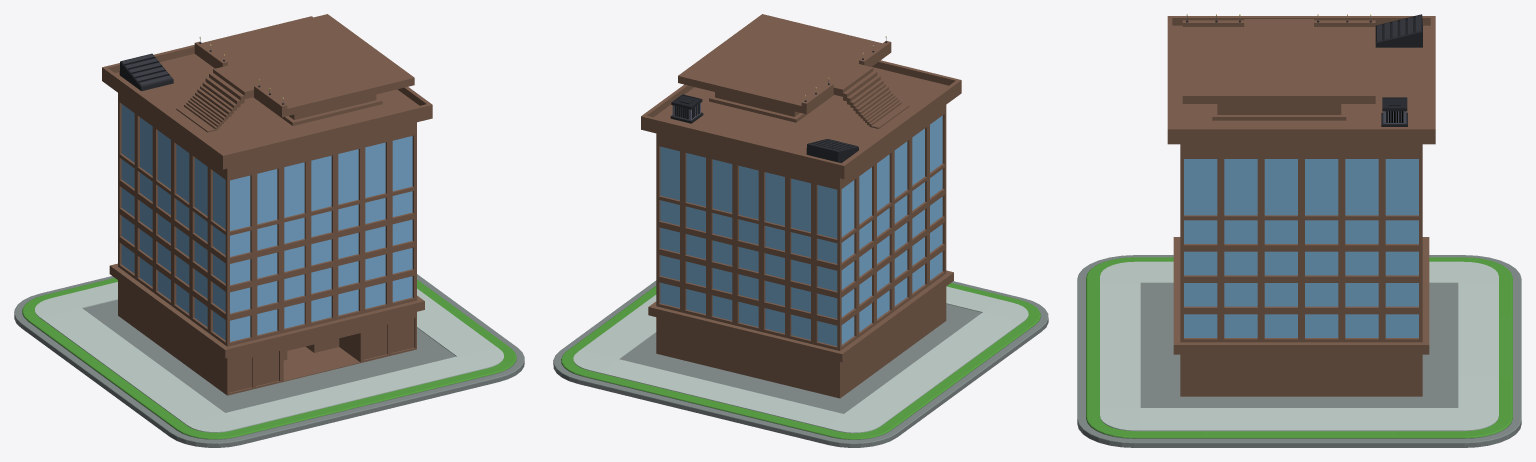
File: Office1.fbx
The picture shows the model from 3 angles, left to right: view 1: azimuth 30°, elevation 25°; view 2: azimuth 150°, elevation 25°; view 3: azimuth 270°, elevation 25°; orthographic projection. The views are drawn at different scales.
Parts seen in each view (by area): view 1: office building helipad!, Office Building; view 2: office building helipad!, Office Building; view 3: office building helipad!, Office Building.
Boxes of the visible parts, x1=… form: office building helipad!: x1=102, y1=14, x2=432, y2=395; Office Building: x1=14, y1=274, x2=524, y2=447; office building helipad!: x1=641, y1=14, x2=961, y2=398; Office Building: x1=553, y1=280, x2=1048, y2=447; office building helipad!: x1=1167, y1=14, x2=1435, y2=396; Office Building: x1=1077, y1=255, x2=1521, y2=447.
Size of the model in its own units: 1376 by 1093 by 1376.
